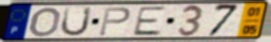3: (177, 3, 206, 38)
7: (206, 3, 241, 38)
E: (130, 6, 167, 37)
O: (27, 6, 62, 38)
P: (97, 6, 132, 37)
U: (59, 6, 94, 38)
